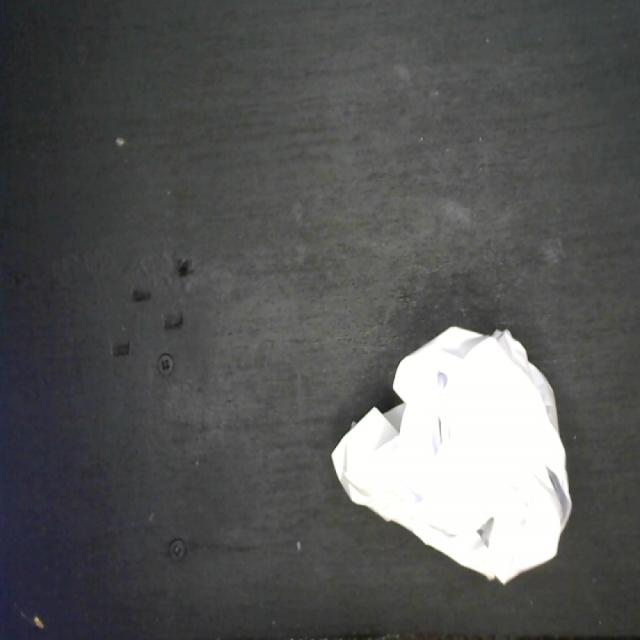biodegradable: (329, 322, 575, 594)
